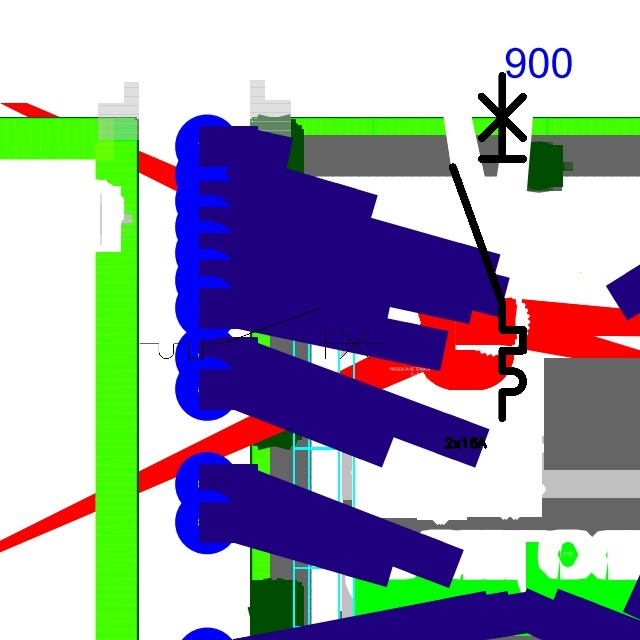interruptor_termomagnetico: (444, 67, 532, 427), (134, 302, 391, 365)
